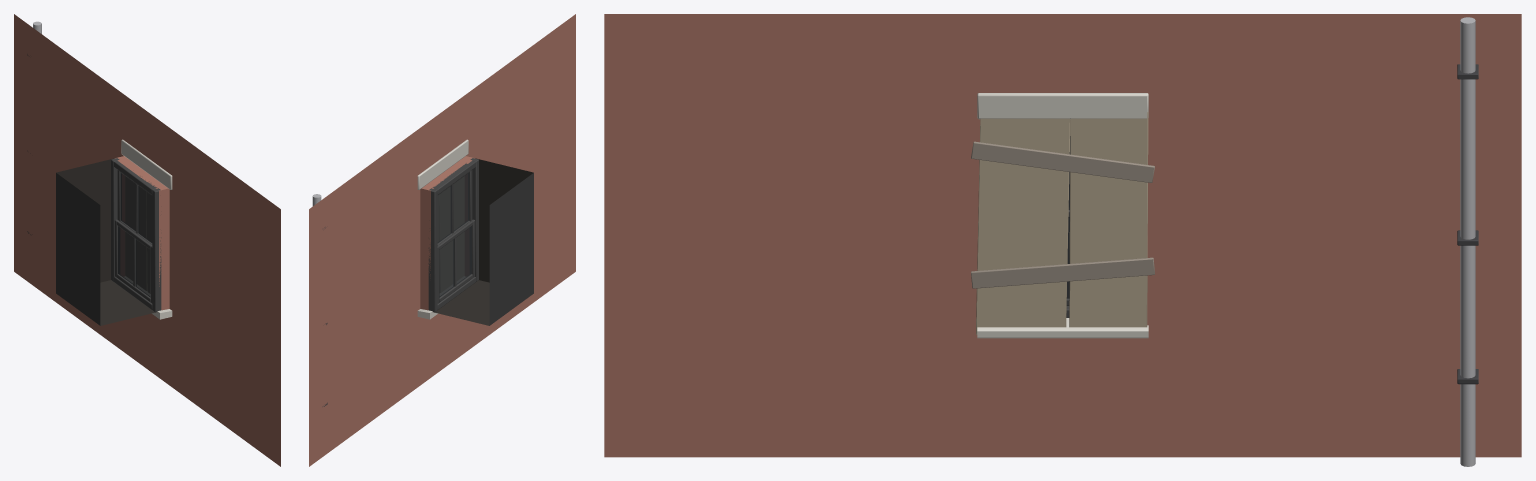
The model's file is side_upper_6.glb.
The picture shows the model from 3 angles, left to right: view 1: azimuth 30°, elevation 25°; view 2: azimuth 150°, elevation 25°; view 3: azimuth 270°, elevation 25°; orthographic projection. The views are drawn at different scales.
Parts seen in each view (by area): view 1: side_upper_6; view 2: side_upper_6; view 3: side_upper_6.
Part boxes in pixels (x1,y1,x2,y2): side_upper_6: (14, 14, 280, 466); side_upper_6: (309, 14, 575, 466); side_upper_6: (604, 14, 1521, 466).
Bounding box in the file's own units: 1.06 × 3.2 × 6.
